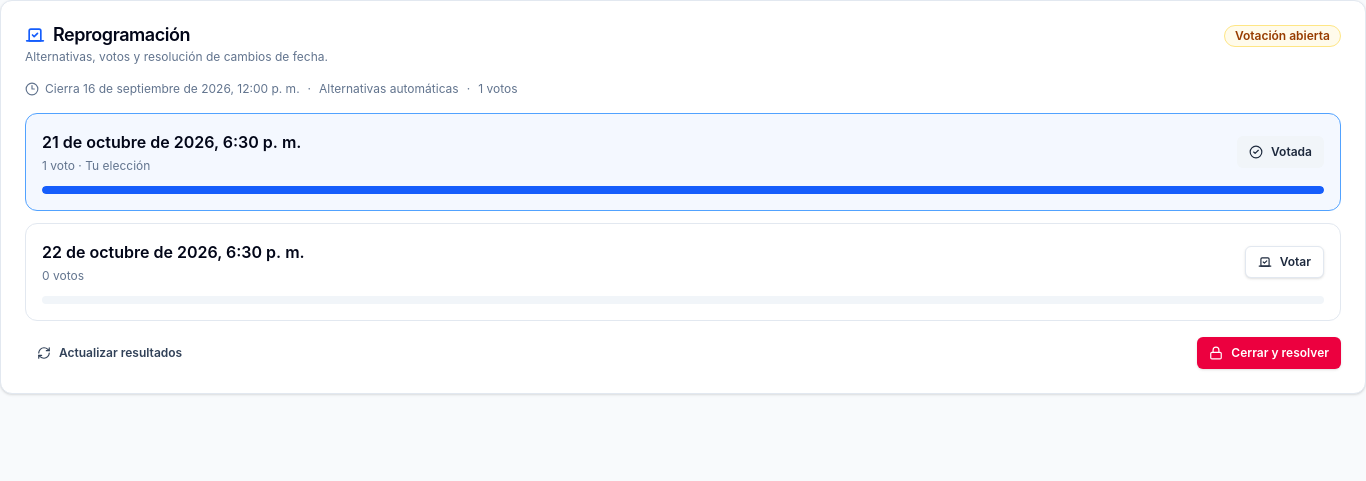
Test: VotingPanel › registra el voto y actualiza los resultados parciales
Click the button named "Votar": (1281, 152) [1237, 136, 1324, 168]
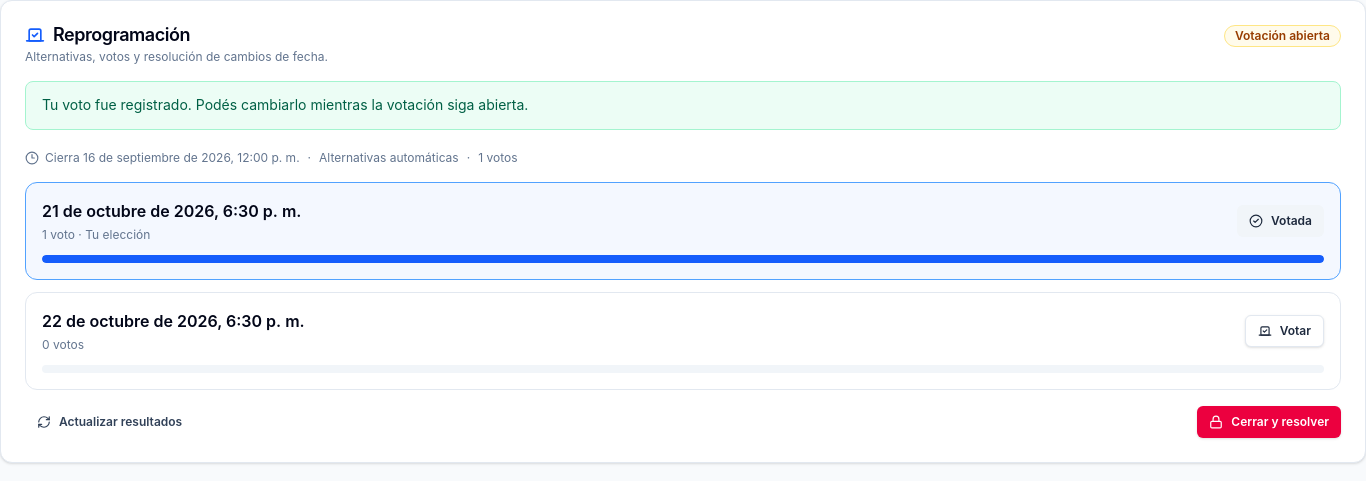
Check: the text "Tu voto fue registrado. Podés cambiarlo mientras la votación siga abierta." is shown, box [42, 96, 528, 113]
